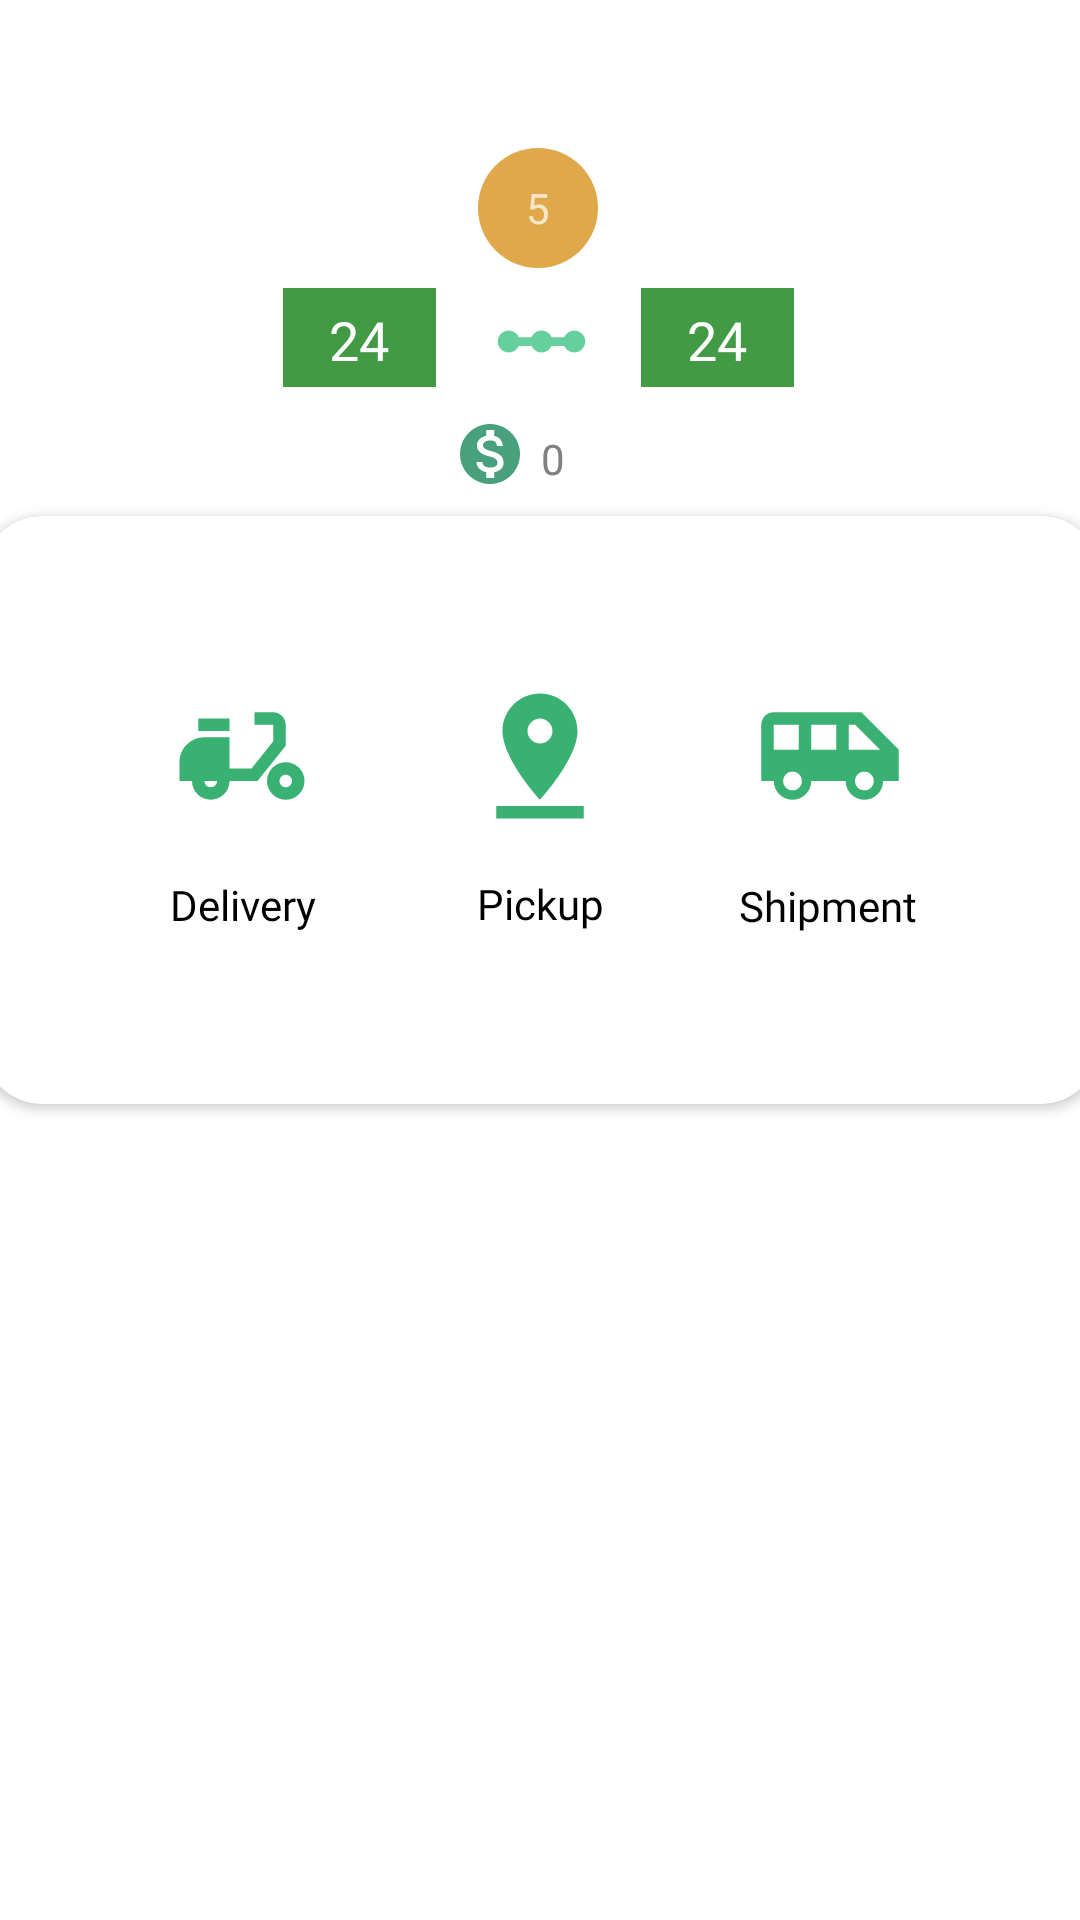

Screen size 1080 x 1920. Icon name, then its center in pixels as (x,y):
airport shuttle: (830,756)
linear scale: (541,341)
monetization on: (490,454)
pin drop: (540,756)
